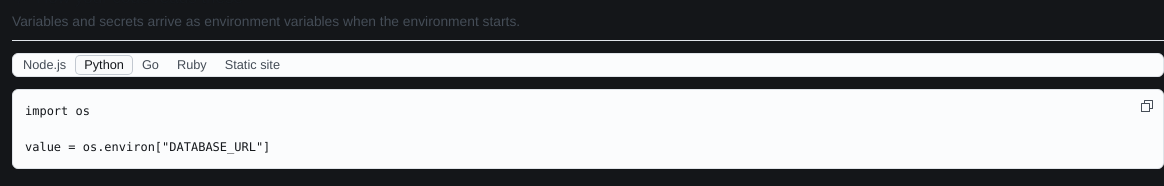
HowCodeReadsSection › starts on the language the platform detected and can switch
This screenshot has width=1164, height=186.
Check: the element named "Python example" shows "os.environ[\"DATABASE_URL\"]", box [25,103,270,155]
Click the radio button labelled "Go": coordinates (150, 65) [134,56,167,74]
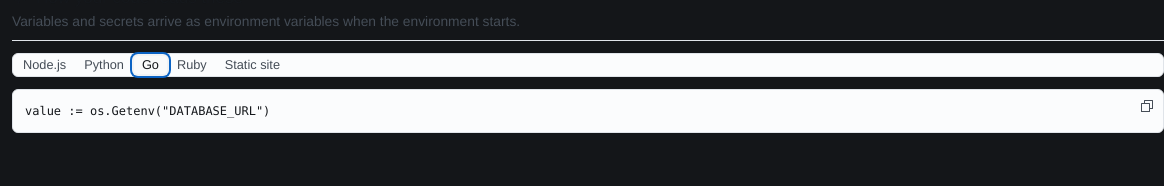
Check: the element named "Go example" shows "os.Getenv(\"DATABASE_URL\")", box [25,103,270,119]
